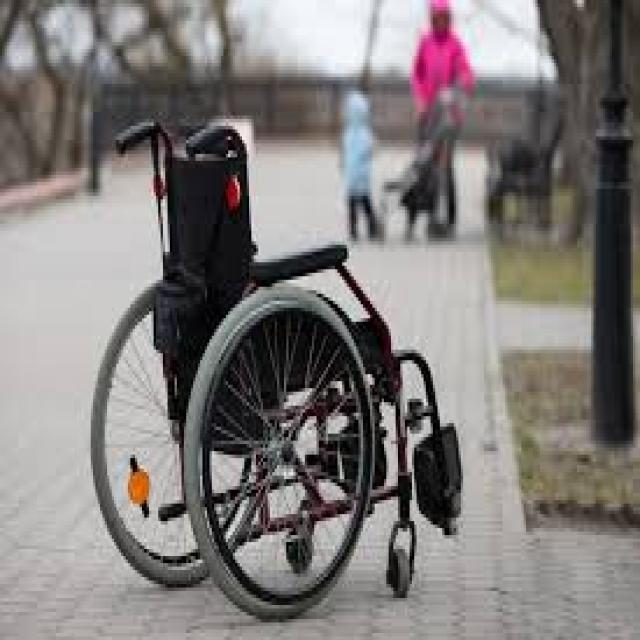wheelchairs: (79, 112, 468, 622)
